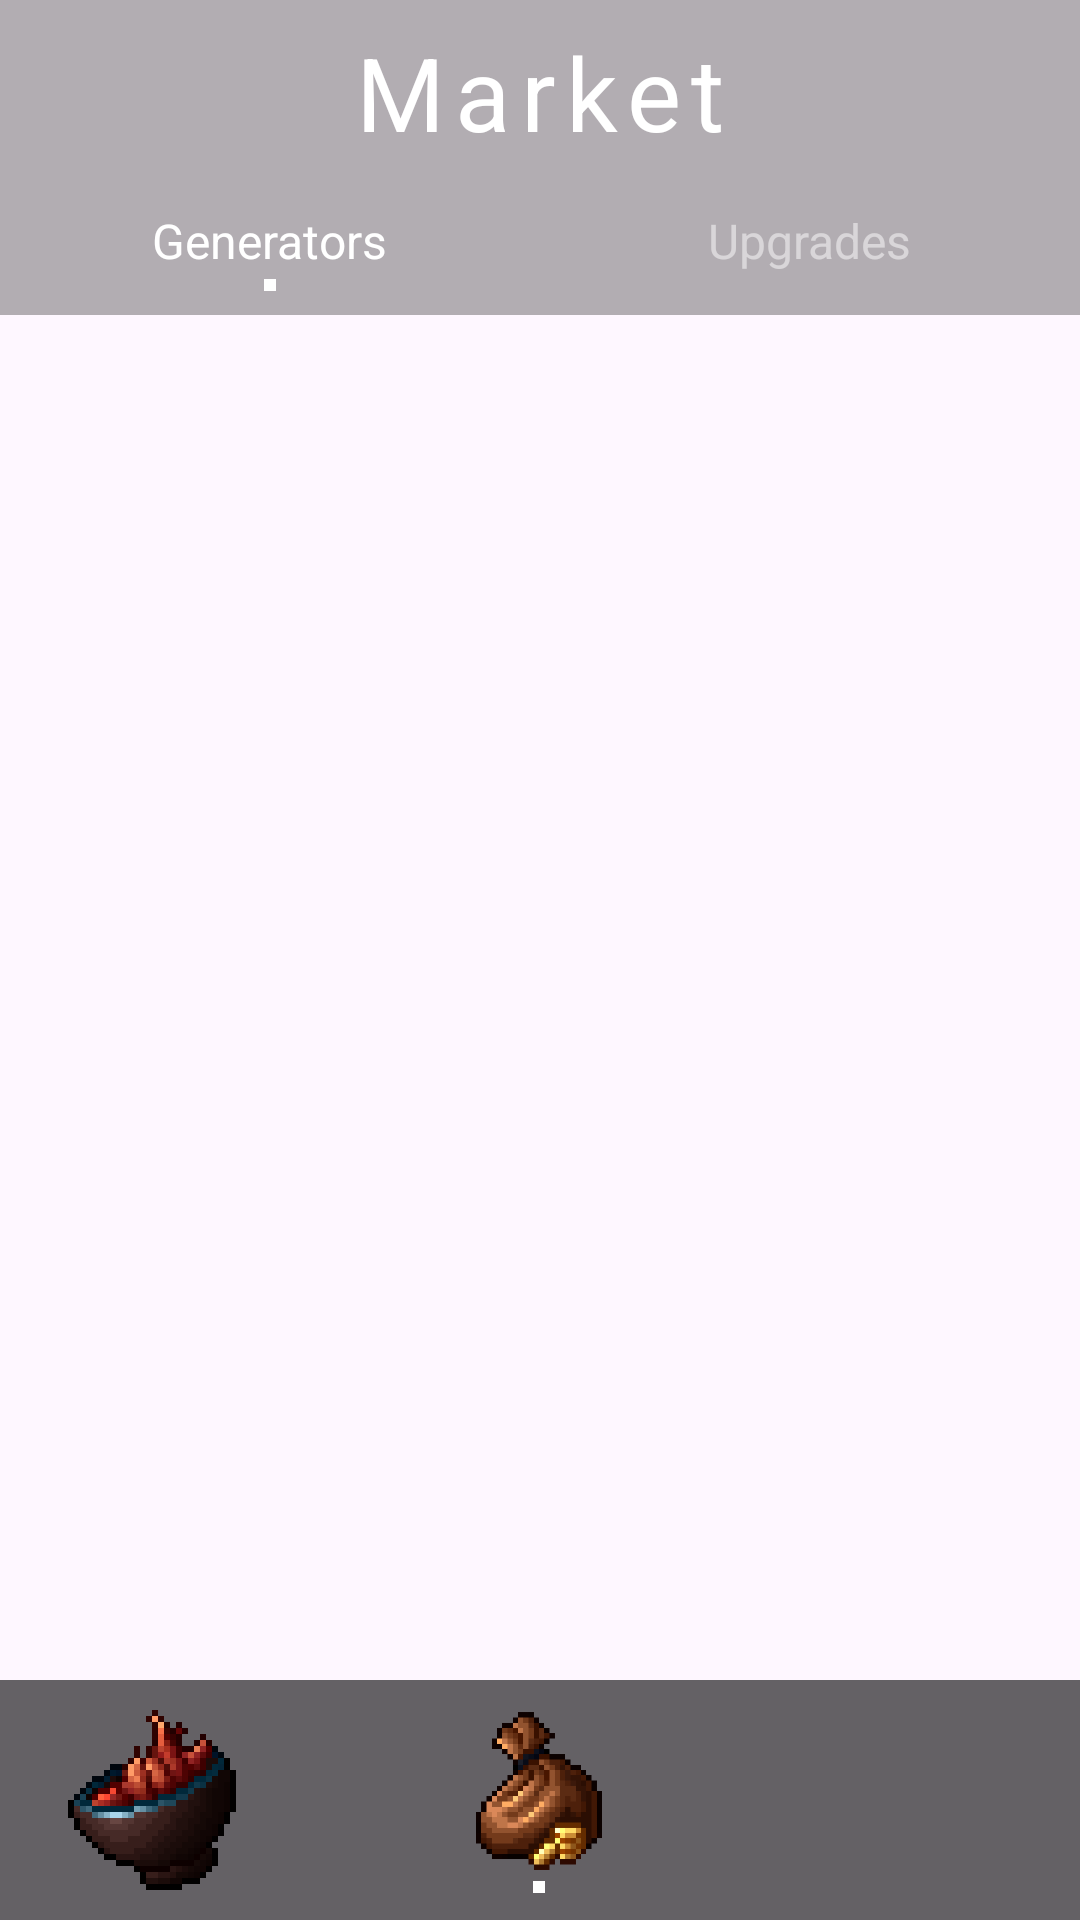

Icon bounding boxes for this 1080×1920 phone screenshot, format (x1, y1, x2, y2):
market: (476, 1712, 602, 1870)
